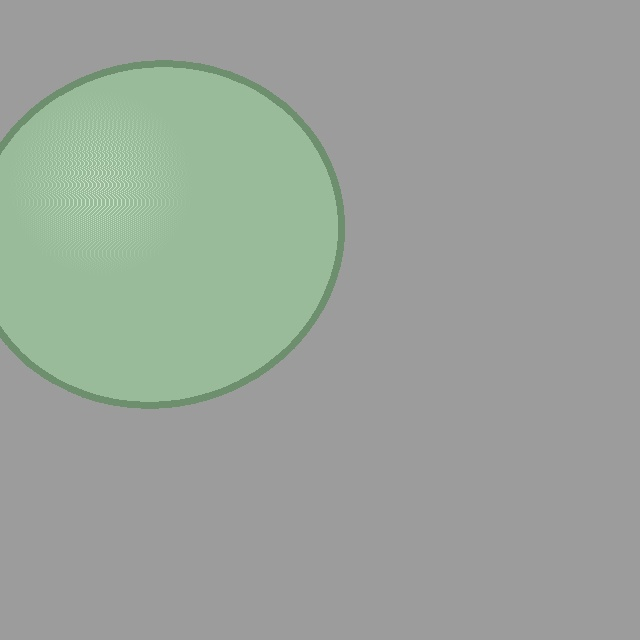lens: (0, 63, 341, 405)
